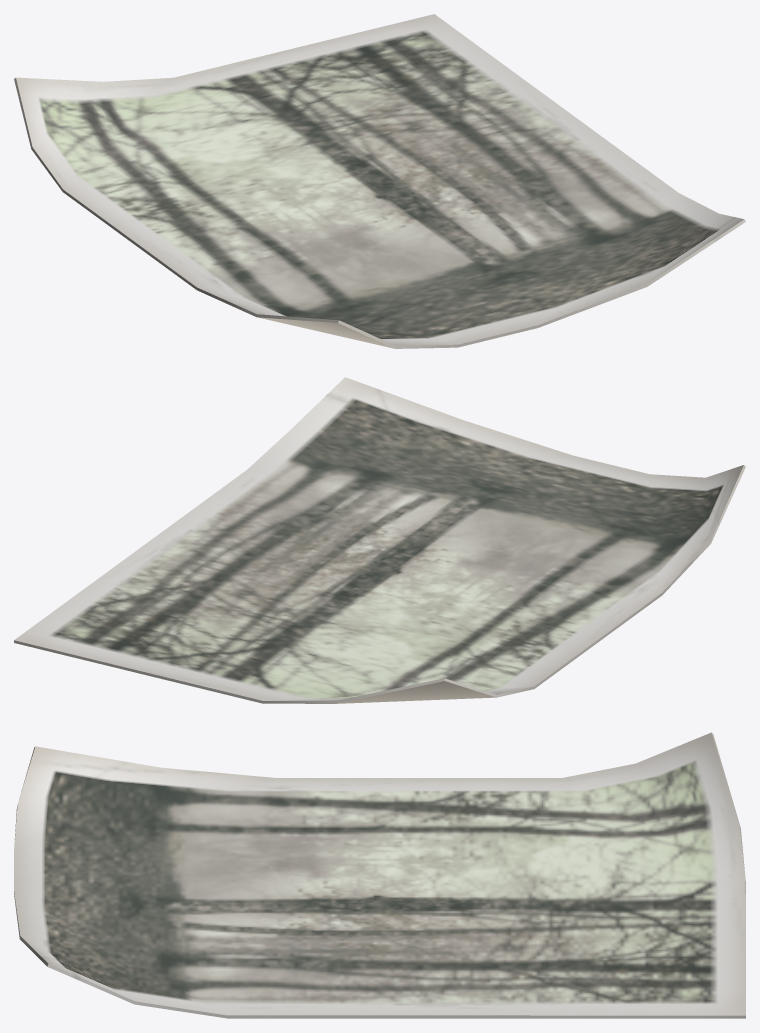
The model's file is Picture_1_Small.FBX.
3 renders of one model, top to bottom at view 1: azimuth 30°, elevation 25°; view 2: azimuth 150°, elevation 25°; view 3: azimuth 270°, elevation 25°, orthographic. The views are drawn at different scales.
Visible parts, largest first — view 1: Picture_1_Small; view 2: Picture_1_Small; view 3: Picture_1_Small.
Boxes of the visible parts, left/top/right/bottom form: Picture_1_Small: left=14, top=14, right=745, bottom=348; Picture_1_Small: left=14, top=377, right=745, bottom=703; Picture_1_Small: left=14, top=732, right=745, bottom=1018.
Size of the model in its own units: 16.95 by 2.02 by 22.08.
